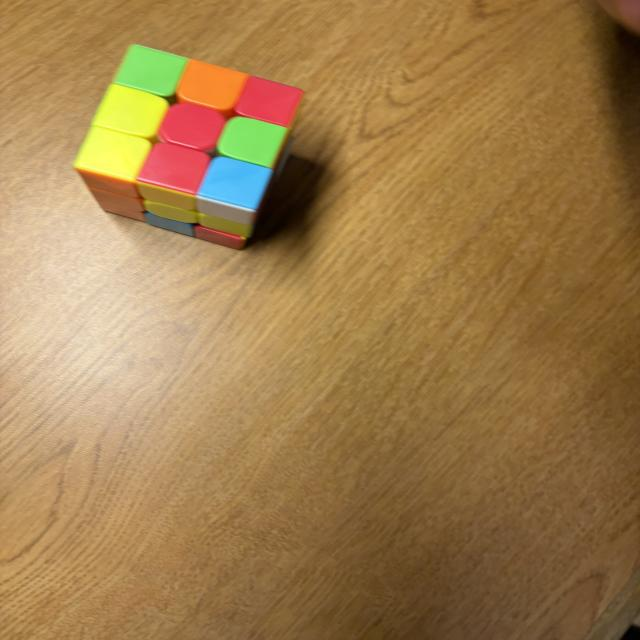Rubiks Cube: (75, 44, 308, 251)
